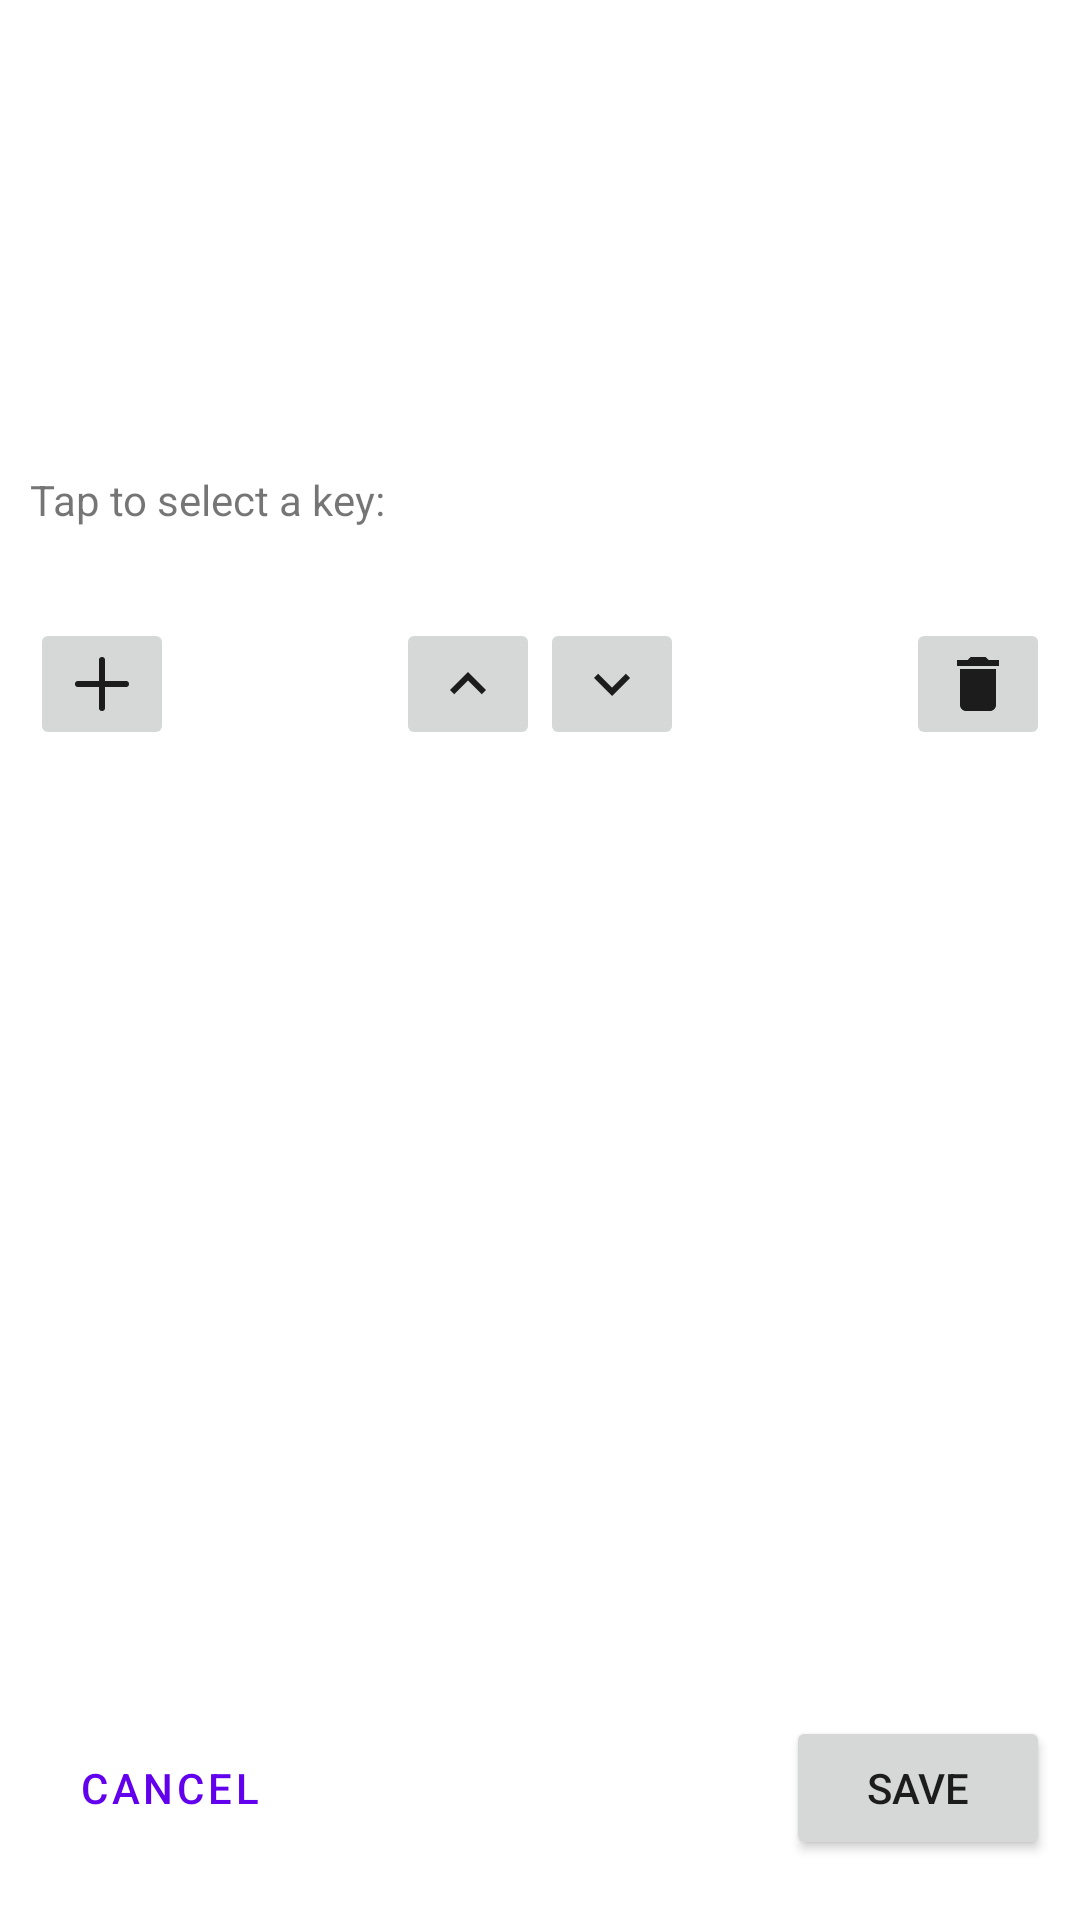

Icon click points for this 1080px x 1920px phone screenshot, format [x,y]:
keyboard arrow down: [612,684]
keyboard arrow up: [468,684]
plus: [102,684]
recycle bin: [978,684]
